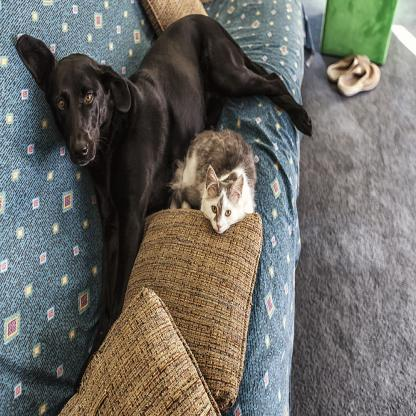cat: (175, 126, 261, 241)
dog: (15, 10, 325, 328)
